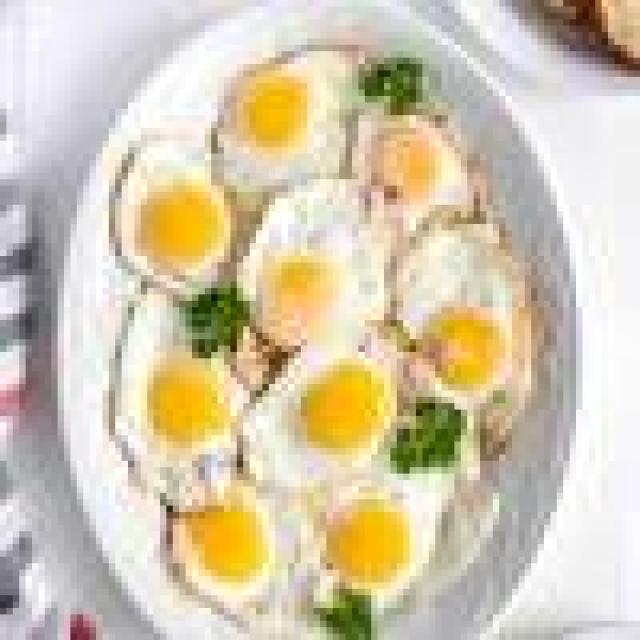Egg: (258, 164, 379, 348), (255, 355, 395, 509), (404, 209, 512, 393), (116, 302, 245, 454), (221, 49, 361, 187), (109, 150, 230, 274), (328, 485, 444, 594)
